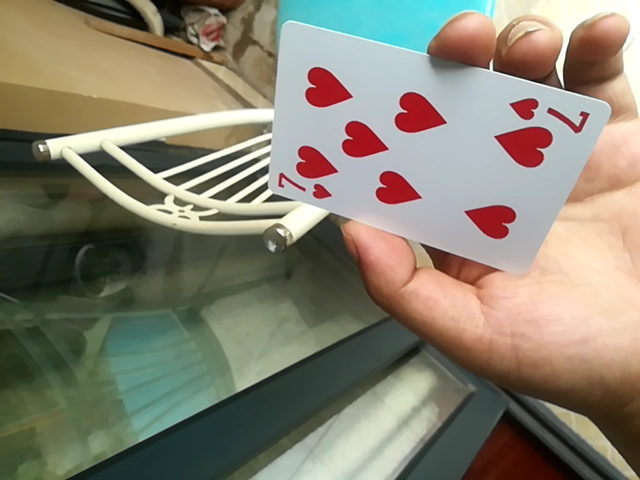hx 7: (270, 19, 609, 272)
